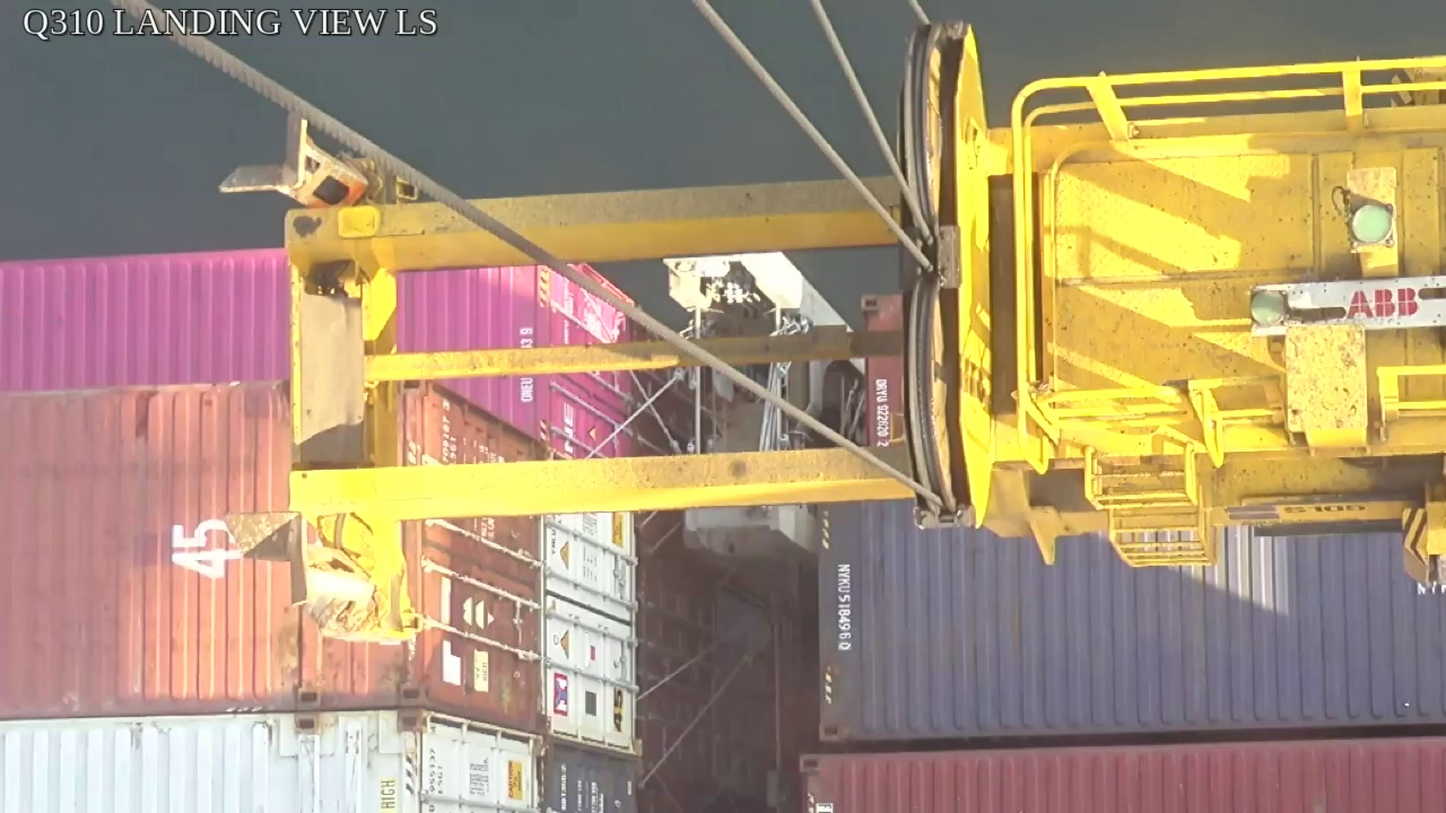aa: (898, 20, 997, 529)
